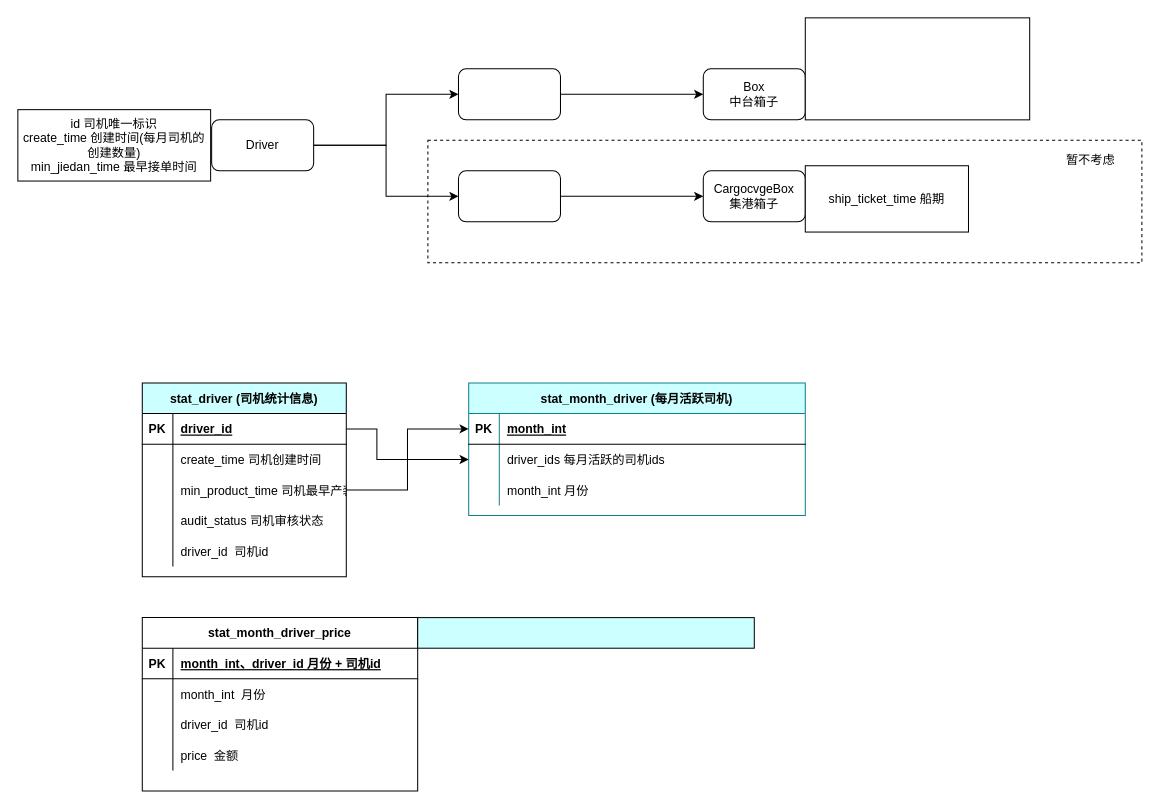
Some shapes in this 1160 by 809 pixel diagram are drawn without their labels. Here are the shapes that lost their labels. From the top down, the centre of each, then its label:
point 917,68: min_product_time 最早产装时间
point 508,94: Assign
point 508,196: CargocvgeAssign
point 585,632: stat_zhongtai_financial_item_to_summary 有个现成的
